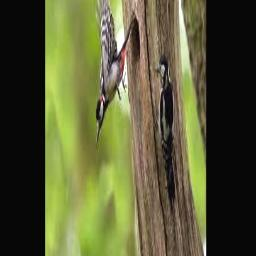Woodpecker: (96, 0, 132, 140), (154, 54, 175, 209)
